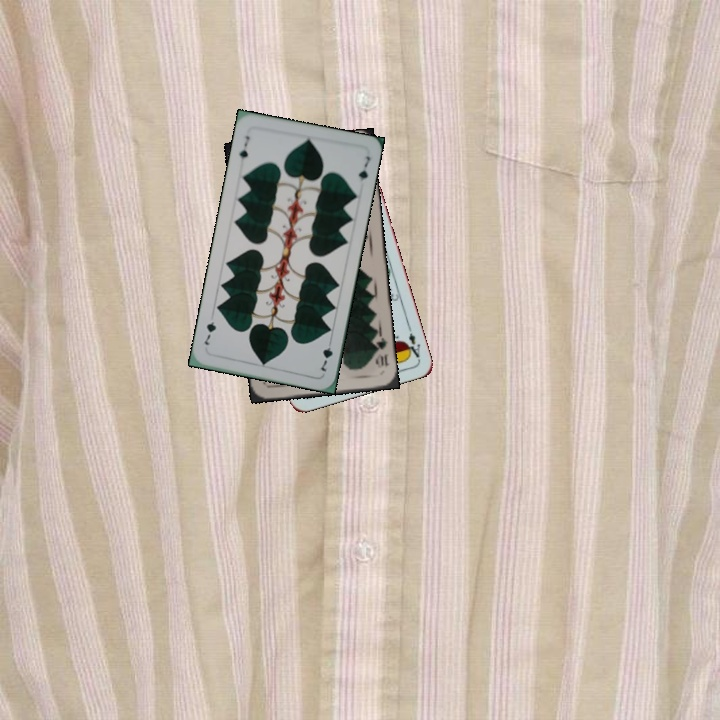EA: (401, 322, 423, 362)
G10: (370, 332, 392, 369)
G7: (316, 335, 335, 374), (235, 132, 252, 162)
